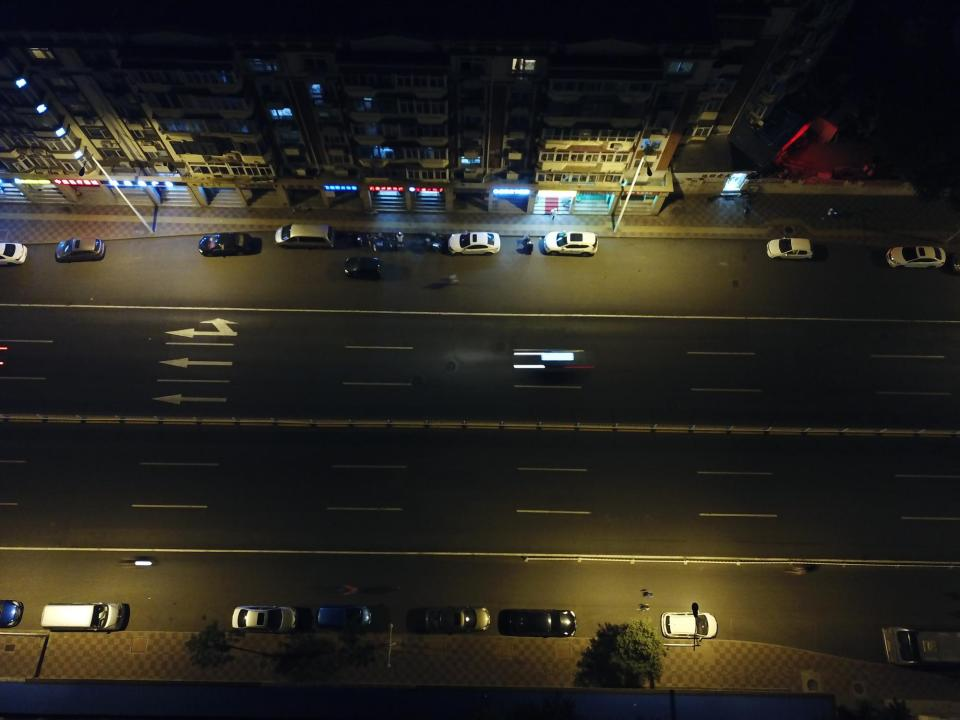car: (657, 602, 724, 642), (509, 346, 597, 376), (503, 606, 577, 638), (418, 605, 494, 632), (232, 605, 299, 631), (543, 233, 599, 258), (448, 232, 503, 256), (198, 232, 252, 256), (54, 236, 104, 260), (316, 606, 371, 626), (344, 256, 382, 278), (0, 601, 25, 625), (0, 244, 28, 264)
van: (878, 622, 960, 668), (41, 603, 125, 633), (274, 223, 333, 251)
